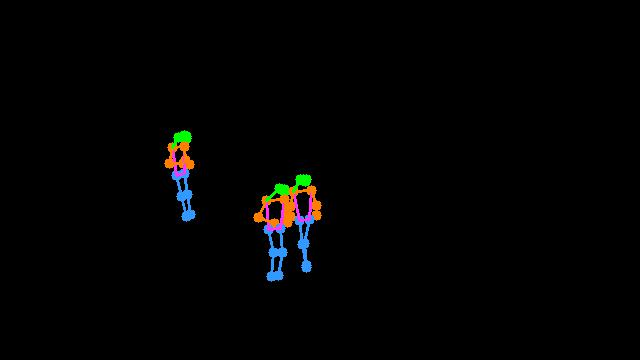normal: (243, 151, 336, 300)
